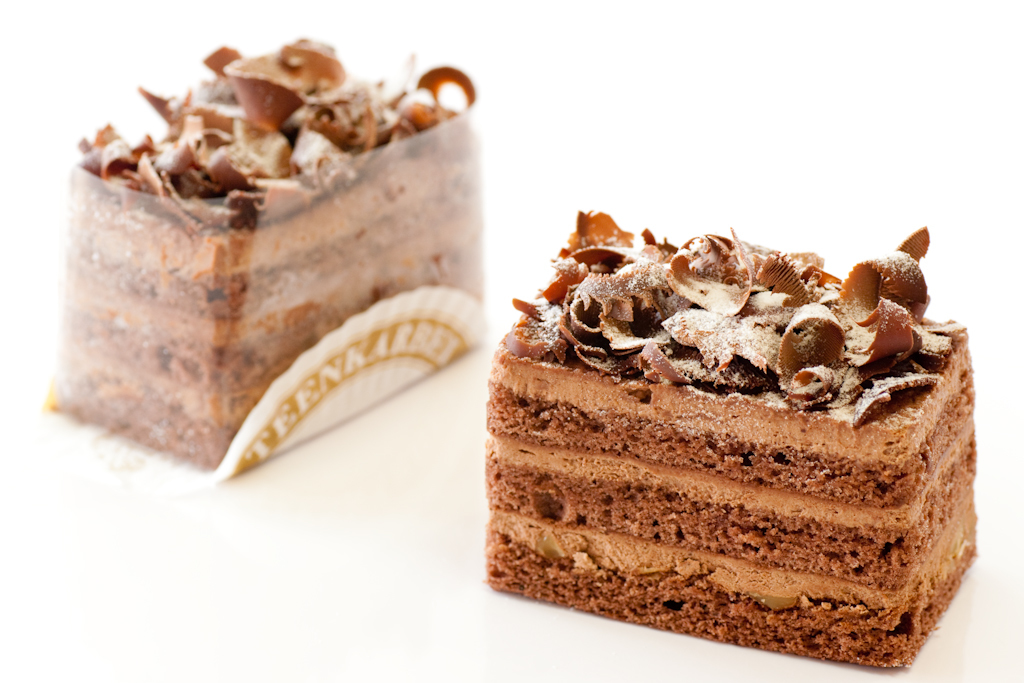cake: (470, 195, 974, 677), (39, 26, 483, 478)
